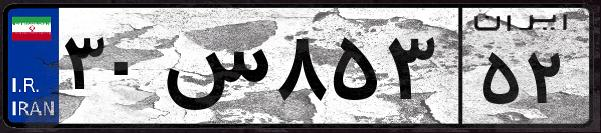0: (110, 28, 158, 98)
2: (525, 38, 570, 115)
3: (385, 28, 445, 110), (57, 26, 110, 100)
5: (330, 28, 385, 110), (475, 38, 525, 113)
8: (270, 28, 330, 110)
س: (158, 20, 270, 120)
